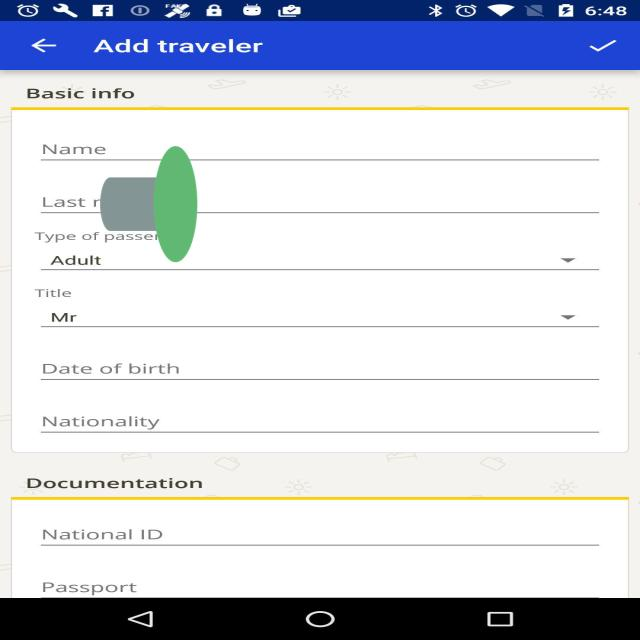social proof: (100, 74, 197, 333)
